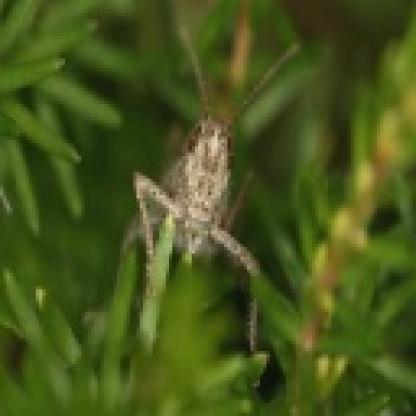grasshopper: (119, 39, 290, 350)
